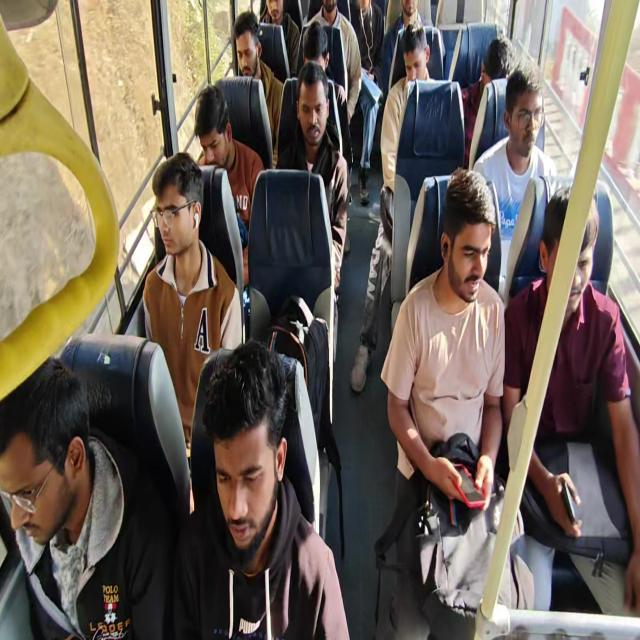person: (195, 340, 297, 553), (2, 344, 92, 562), (537, 184, 601, 316), (442, 165, 493, 311), (150, 152, 202, 259), (290, 66, 340, 156), (192, 83, 240, 168), (506, 72, 542, 162), (297, 17, 341, 74), (396, 27, 435, 88), (232, 9, 262, 78), (483, 30, 511, 81), (262, 0, 287, 27), (318, 1, 339, 24), (398, 1, 422, 20)
